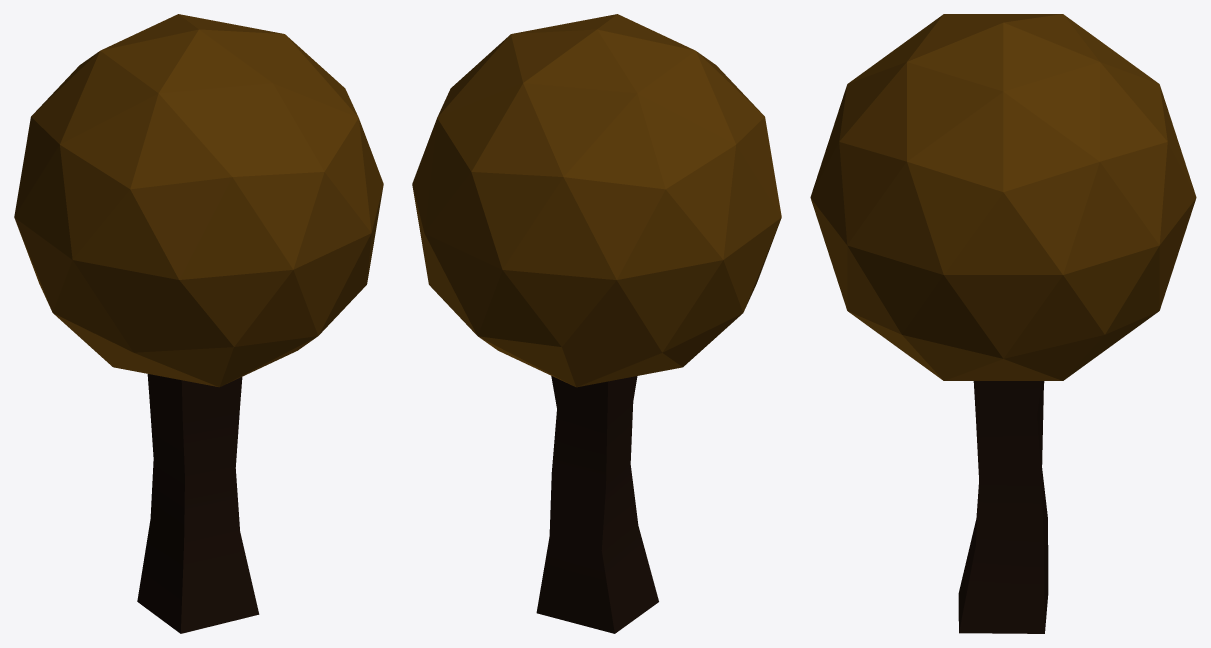
File: RoundedTree1.FBX
The picture shows the model from 3 angles, left to right: view 1: azimuth 30°, elevation 25°; view 2: azimuth 150°, elevation 25°; view 3: azimuth 270°, elevation 25°; orthographic projection. The views are drawn at different scales.
Visible parts, largest first — view 1: GeoSphere002, Box002; view 2: GeoSphere002, Box002; view 3: GeoSphere002, Box002.
Boxes of the visible parts, box(x1,y1,x2,y2) form: GeoSphere002: box(14, 14, 383, 387); Box002: box(137, 374, 259, 633); GeoSphere002: box(412, 14, 781, 387); Box002: box(536, 376, 658, 633); GeoSphere002: box(810, 14, 1196, 380); Box002: box(958, 381, 1048, 633).
Size of the model in its own units: 28.53 by 50.69 by 30.
